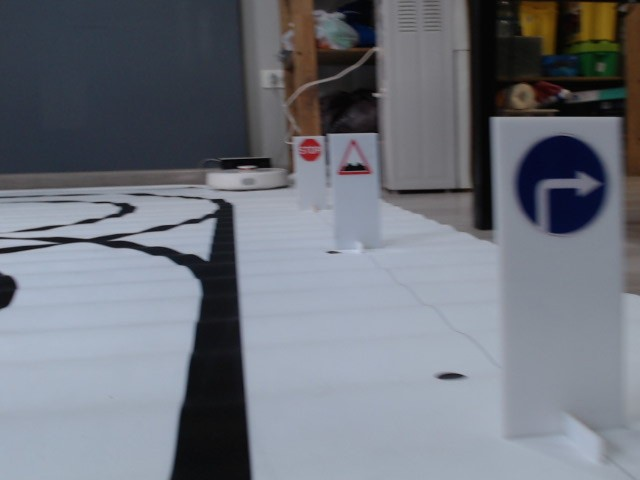Nerov: (339, 139, 374, 178)
Right: (513, 133, 609, 235)
Stop: (297, 137, 321, 162)
